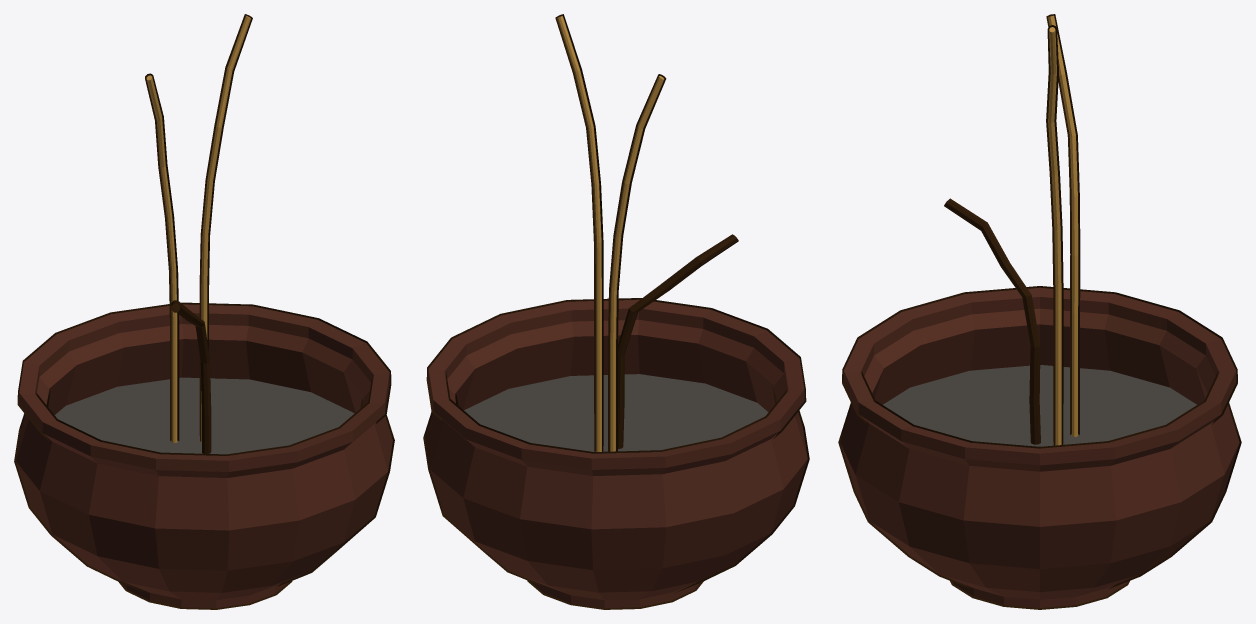
File: IncenseBowl_(Outlined)_v002.fbx
3 renders of one model, left to right at view 1: azimuth 30°, elevation 25°; view 2: azimuth 150°, elevation 25°; view 3: azimuth 270°, elevation 25°, orthographic. The views are drawn at different scales.
Visible parts, largest first — view 1: Sphere.002; view 2: Sphere.002; view 3: Sphere.002.
Part boxes in pixels (box(x1,y1,x2,y2)): Sphere.002: box(14, 14, 394, 609); Sphere.002: box(423, 14, 809, 609); Sphere.002: box(838, 14, 1241, 609).
Size of the model in its own units: 202 by 314 by 202.
